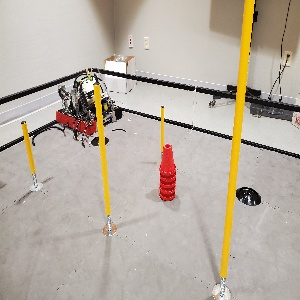Red_5: (155, 141, 178, 202)
